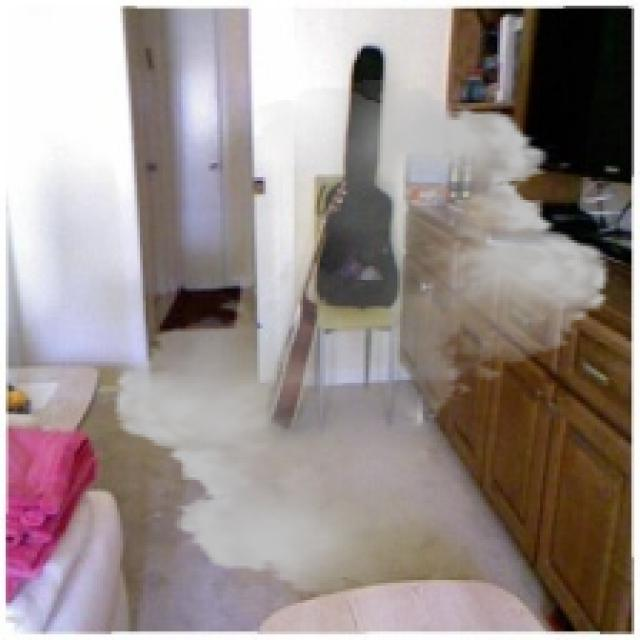smoke: (97, 80, 626, 600)
